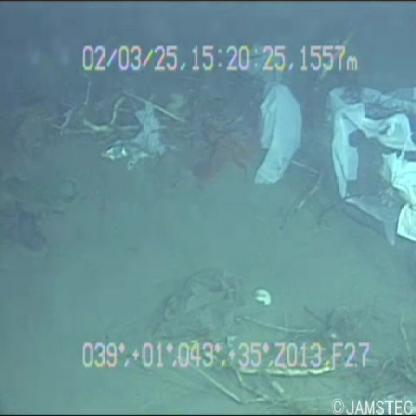Rác: (314, 72, 416, 246), (218, 37, 304, 198)
